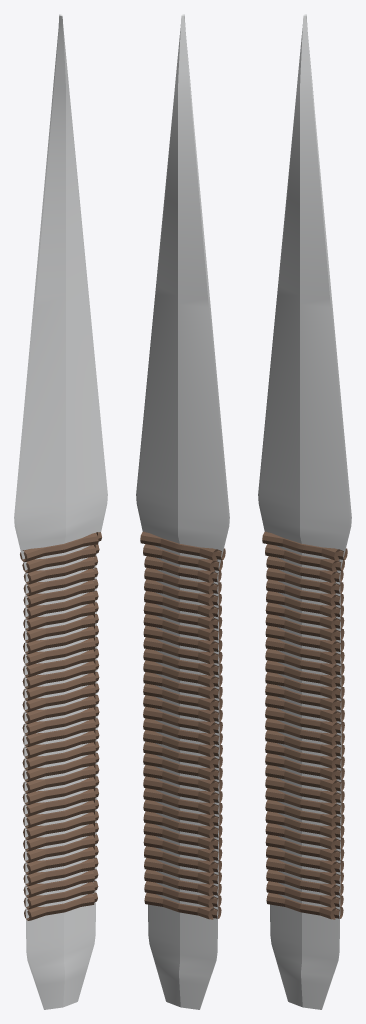
File: throwing.glb
3 renders of one model, left to right at view 1: azimuth 30°, elevation 25°; view 2: azimuth 150°, elevation 25°; view 3: azimuth 330°, elevation 25°, orthographic.
Visible parts, largest first — view 1: throw_blade, cord_0, cord_20, cord_15, cord_14, cord_17, cord_18, cord_19, cord_16, cord_13, cord_10, cord_11 (+21 smaller); view 2: throw_blade, cord_0, cord_14, cord_15, cord_20, cord_19, cord_17, cord_12, cord_9, cord_10, cord_16, cord_21 (+21 smaller); view 3: throw_blade, cord_0, cord_14, cord_15, cord_20, cord_19, cord_17, cord_12, cord_9, cord_10, cord_16, cord_21 (+21 smaller).
Boxes of the visible parts, x1=… form: throw_blade: x1=14, y1=14, x2=107, y2=1009; cord_0: x1=20, y1=532, x2=101, y2=562; cord_20: x1=22, y1=764, x2=99, y2=793; cord_15: x1=22, y1=706, x2=99, y2=735; cord_14: x1=22, y1=695, x2=99, y2=723; cord_17: x1=22, y1=730, x2=99, y2=758; cord_18: x1=22, y1=741, x2=99, y2=770; cord_19: x1=22, y1=753, x2=99, y2=781; cord_16: x1=22, y1=718, x2=99, y2=747; cord_13: x1=22, y1=683, x2=99, y2=712; cord_10: x1=23, y1=648, x2=98, y2=677; cord_11: x1=22, y1=660, x2=99, y2=688; throw_blade: x1=136, y1=14, x2=229, y2=1009; cord_0: x1=140, y1=531, x2=225, y2=560; cord_14: x1=143, y1=695, x2=222, y2=722; cord_15: x1=143, y1=706, x2=222, y2=734; cord_20: x1=143, y1=765, x2=222, y2=792; cord_19: x1=143, y1=753, x2=222, y2=780; cord_17: x1=143, y1=730, x2=222, y2=757; cord_12: x1=143, y1=672, x2=222, y2=699; cord_9: x1=143, y1=637, x2=222, y2=664; cord_10: x1=143, y1=649, x2=222, y2=675; cord_16: x1=143, y1=718, x2=222, y2=745; cord_21: x1=143, y1=776, x2=222, y2=803; throw_blade: x1=258, y1=14, x2=351, y2=1009; cord_0: x1=262, y1=531, x2=347, y2=560; cord_14: x1=265, y1=695, x2=344, y2=722; cord_15: x1=265, y1=706, x2=344, y2=734; cord_20: x1=265, y1=765, x2=344, y2=792; cord_19: x1=265, y1=753, x2=344, y2=780; cord_17: x1=265, y1=730, x2=344, y2=757; cord_12: x1=265, y1=672, x2=344, y2=699; cord_9: x1=265, y1=637, x2=344, y2=664; cord_10: x1=265, y1=649, x2=344, y2=675; cord_16: x1=265, y1=718, x2=344, y2=745; cord_21: x1=265, y1=776, x2=344, y2=803.
Bounding box in the file's own units: 0.0278 × 0.28 × 0.005.
